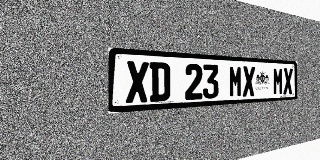2: (185, 63, 202, 100)
3: (203, 64, 218, 99)
D: (150, 62, 170, 102)
M: (229, 65, 242, 98), (273, 67, 283, 95)
X: (126, 61, 149, 103), (243, 66, 255, 97), (283, 68, 293, 95)
